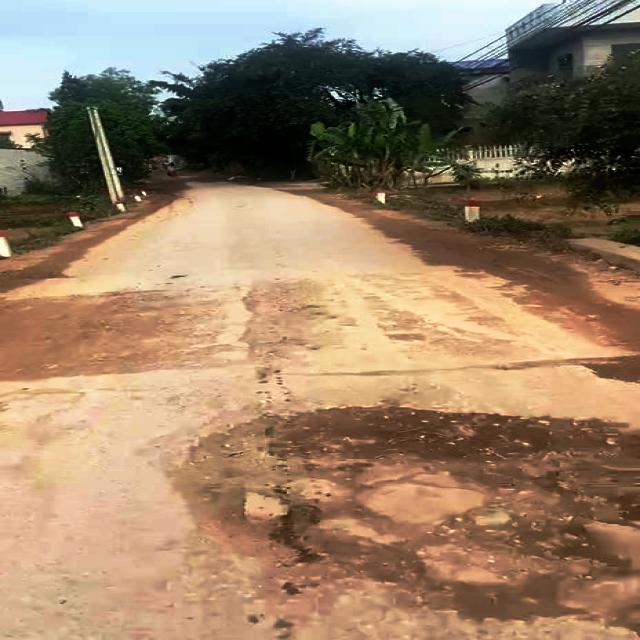pothole: (179, 408, 640, 638)
